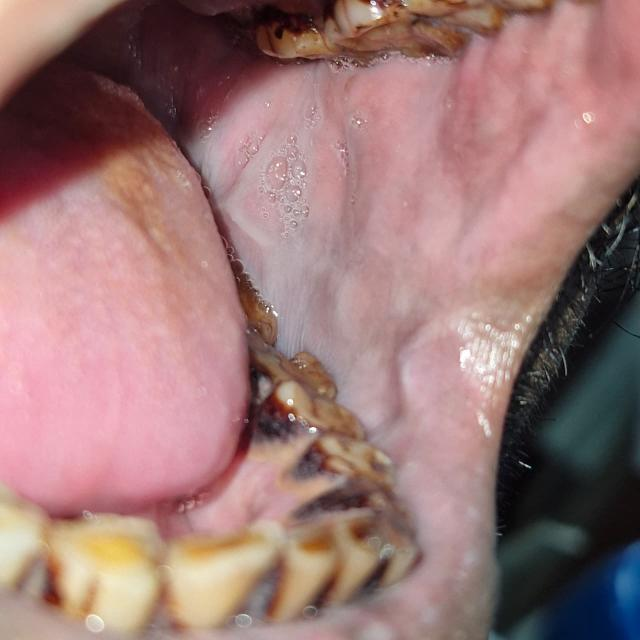leukoplakia-detection: (215, 127, 544, 438)
processing_area: (0, 0, 640, 606)
